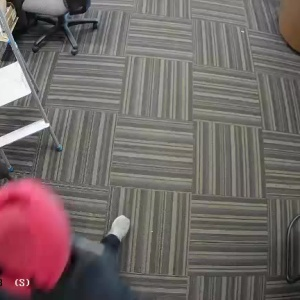person: (9, 184, 126, 293)
